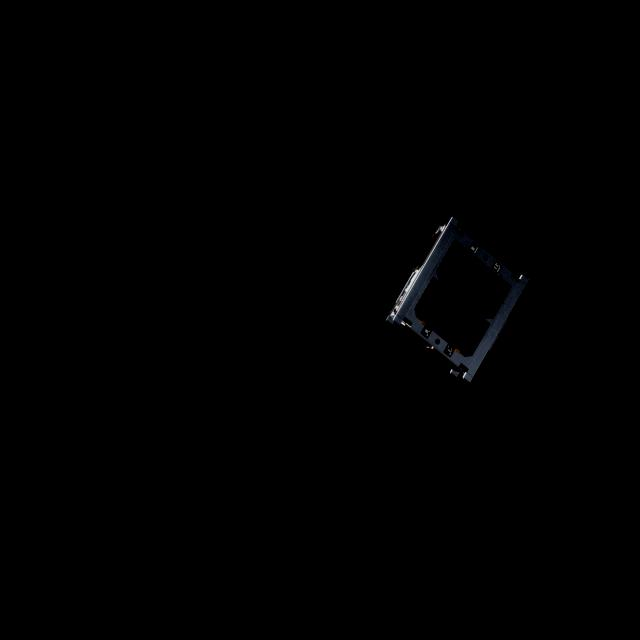medium_debris: (383, 215, 540, 388)
